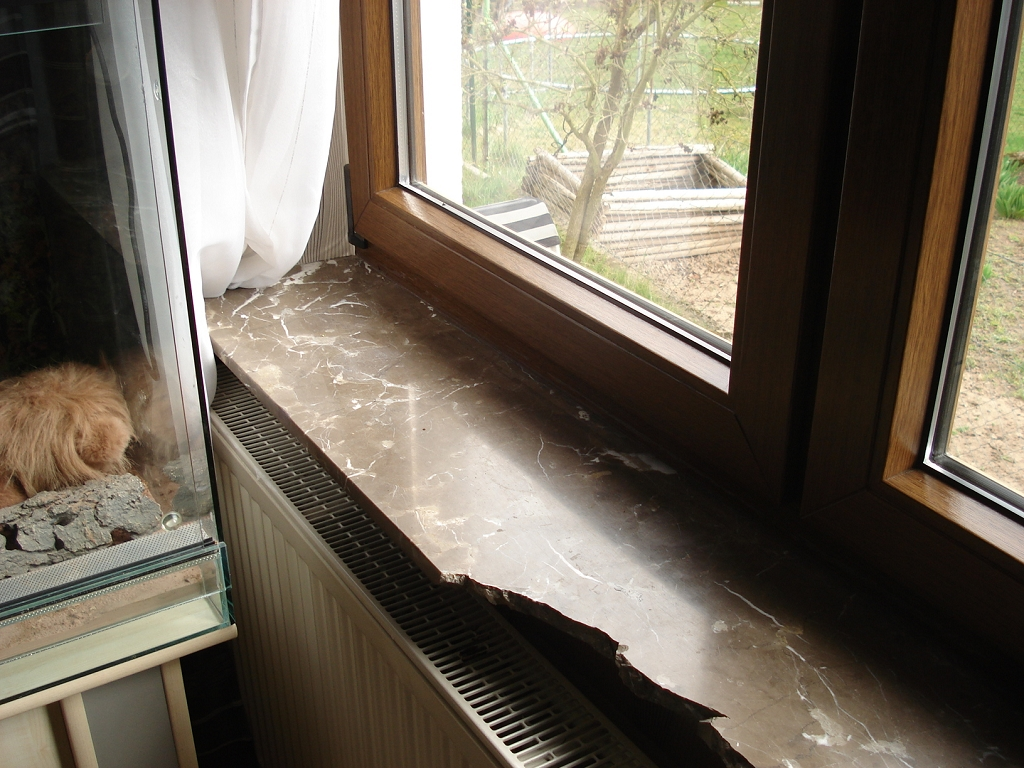windows: (393, 5, 794, 492)
